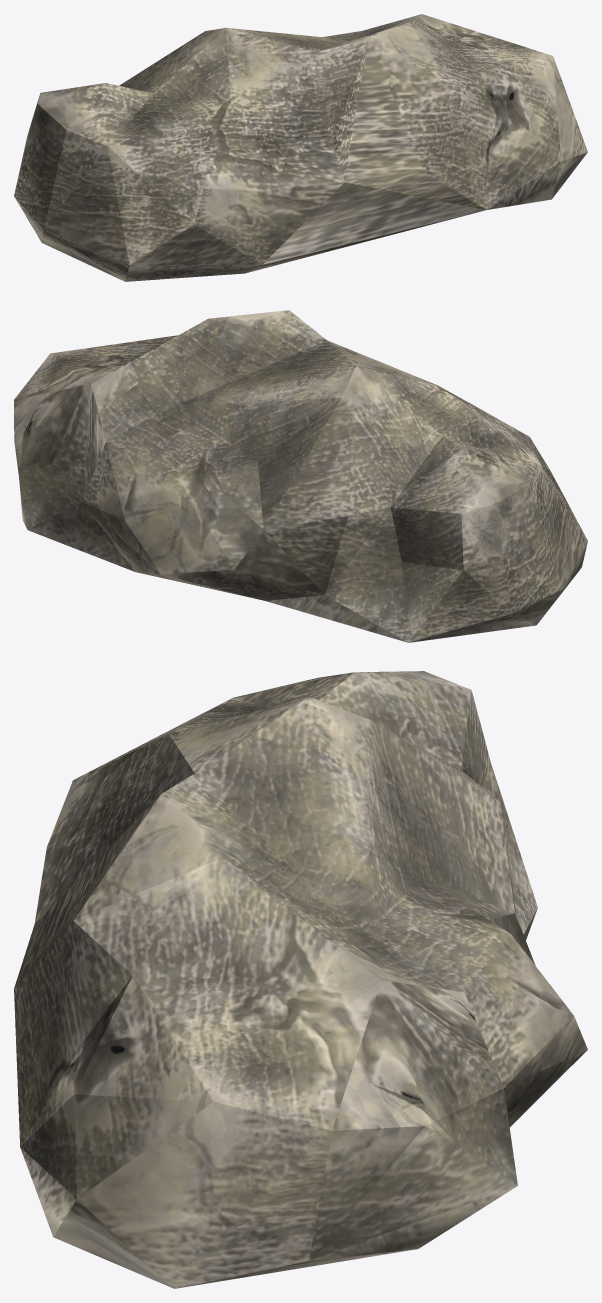
File: rock5_LOD2.fbx
3 renders of one model, top to bottom at view 1: azimuth 30°, elevation 25°; view 2: azimuth 150°, elevation 25°; view 3: azimuth 270°, elevation 25°, orthographic. The views are drawn at different scales.
Visible parts, largest first — view 1: rock5; view 2: rock5; view 3: rock5.
Part boxes in pixels (left/top/right/bottom): rock5: left=14, top=14, right=587, bottom=281; rock5: left=14, top=310, right=587, bottom=642; rock5: left=14, top=671, right=587, bottom=1288.
Bounding box in the file's own units: 30.31 × 16.75 × 10.43.
